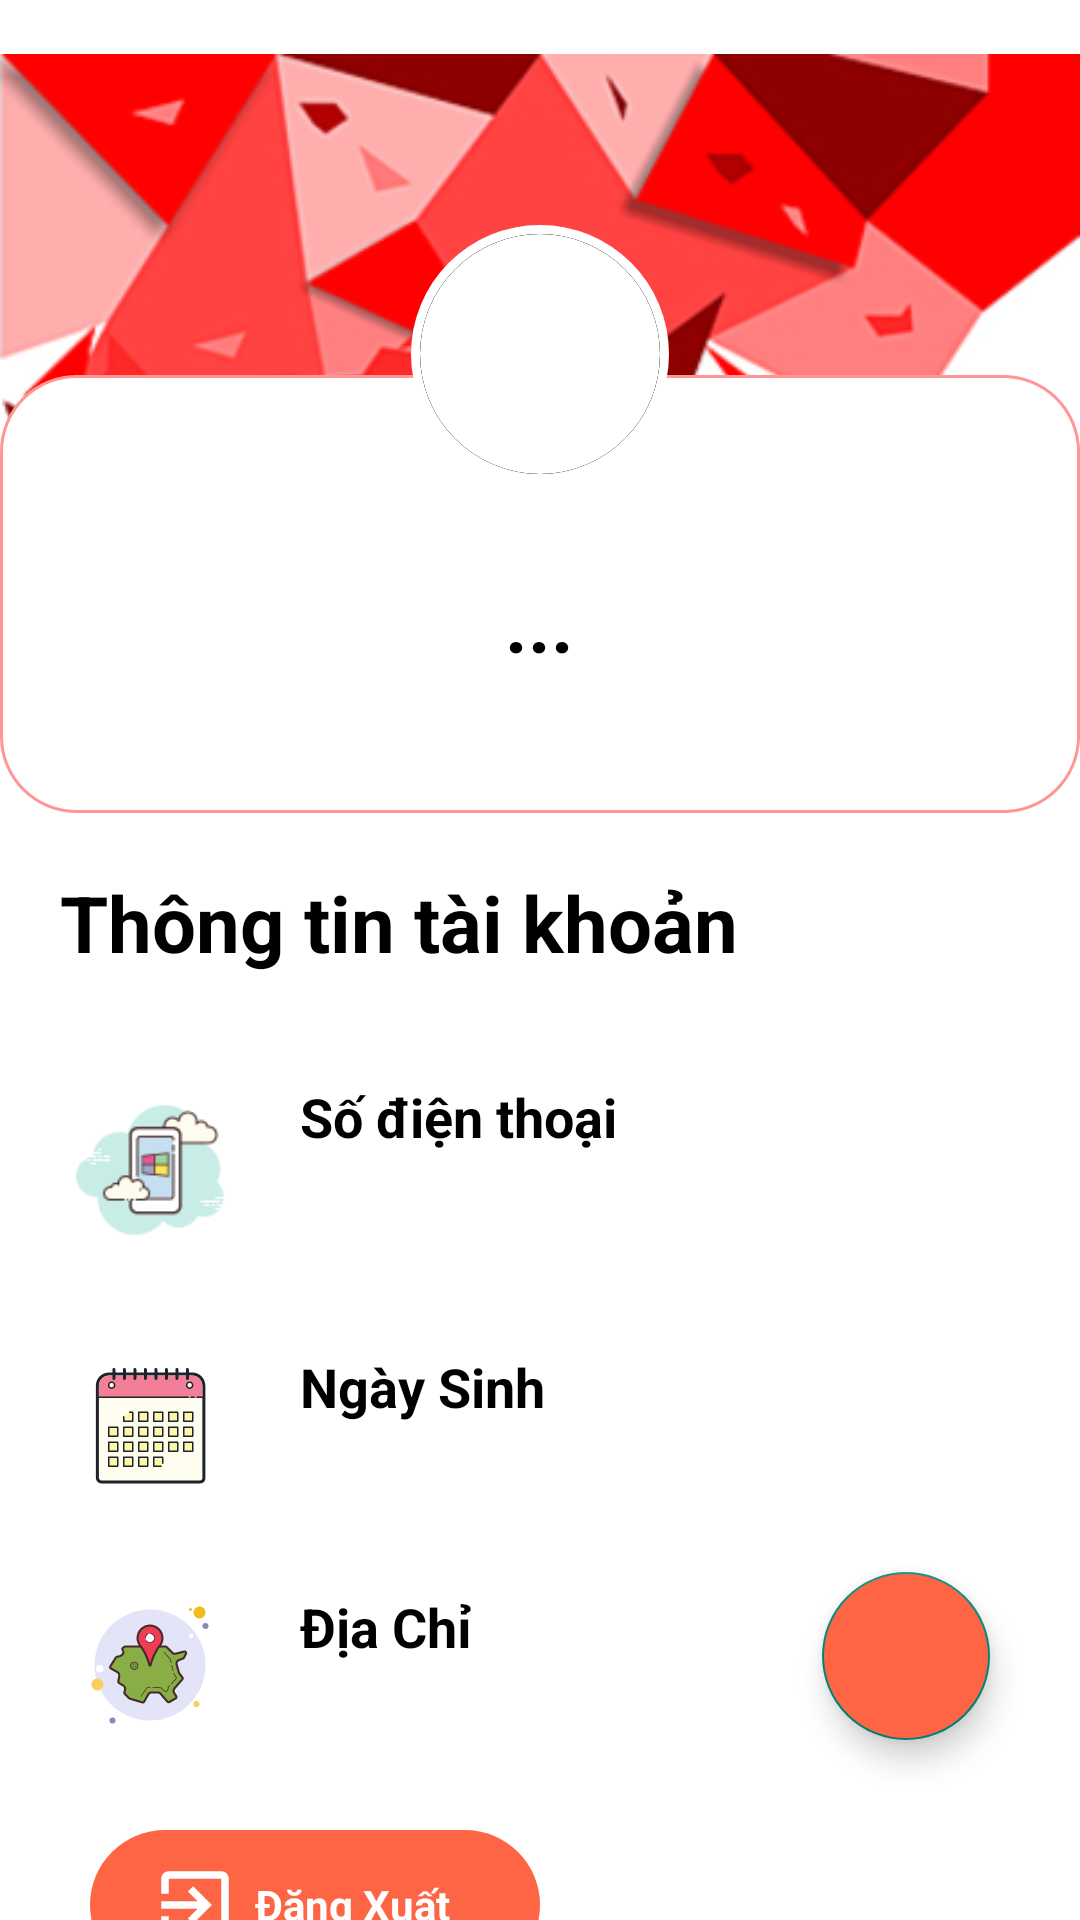

Where icons sit on this 1080w x 1920h app screen, as {"x1": x1, "y1": y1, "x2": x2, "y2": y2}:
calendar: {"x1": 95, "y1": 1368, "x2": 206, "y2": 1484}
country: {"x1": 91, "y1": 1606, "x2": 209, "y2": 1724}
